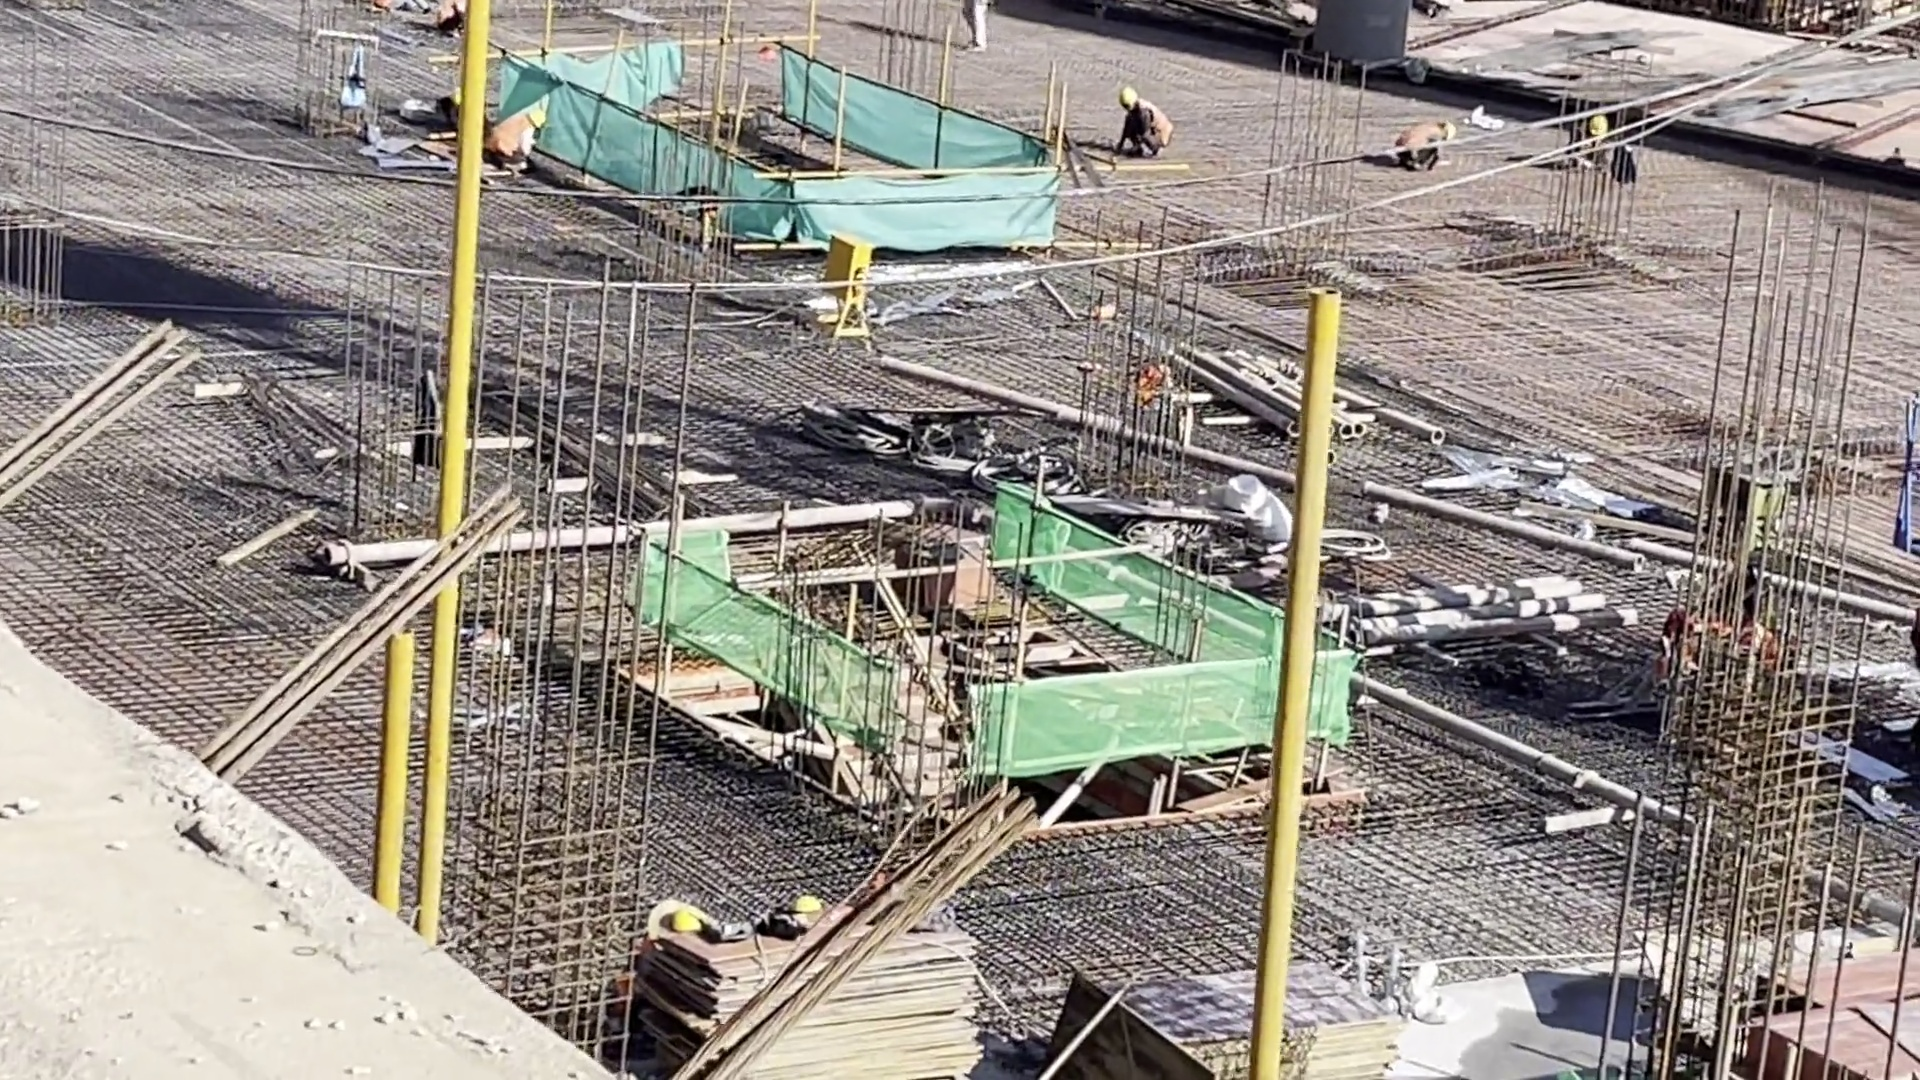board: (644, 938, 973, 1069)
ebox: (824, 233, 866, 331)
helmet: (1590, 111, 1605, 135), (1118, 87, 1135, 104), (530, 110, 545, 129), (1444, 119, 1454, 144)
person: (1119, 87, 1174, 157), (490, 110, 540, 170), (1398, 118, 1458, 165)
vest: (492, 115, 531, 161), (1135, 103, 1173, 147), (1405, 126, 1444, 154)
